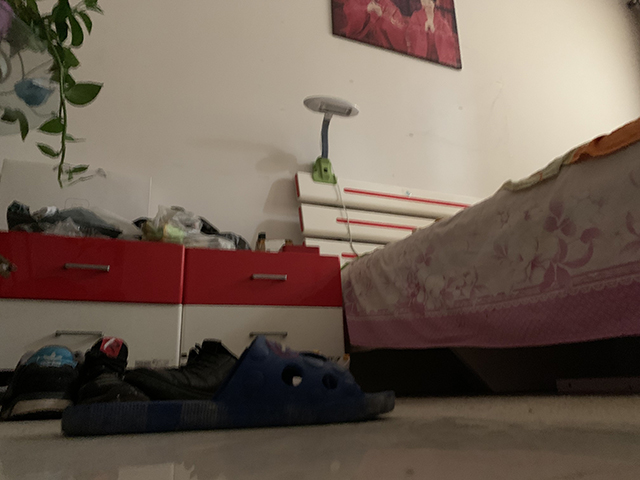bed: (293, 116, 640, 356)
slippers: (59, 333, 396, 438)
